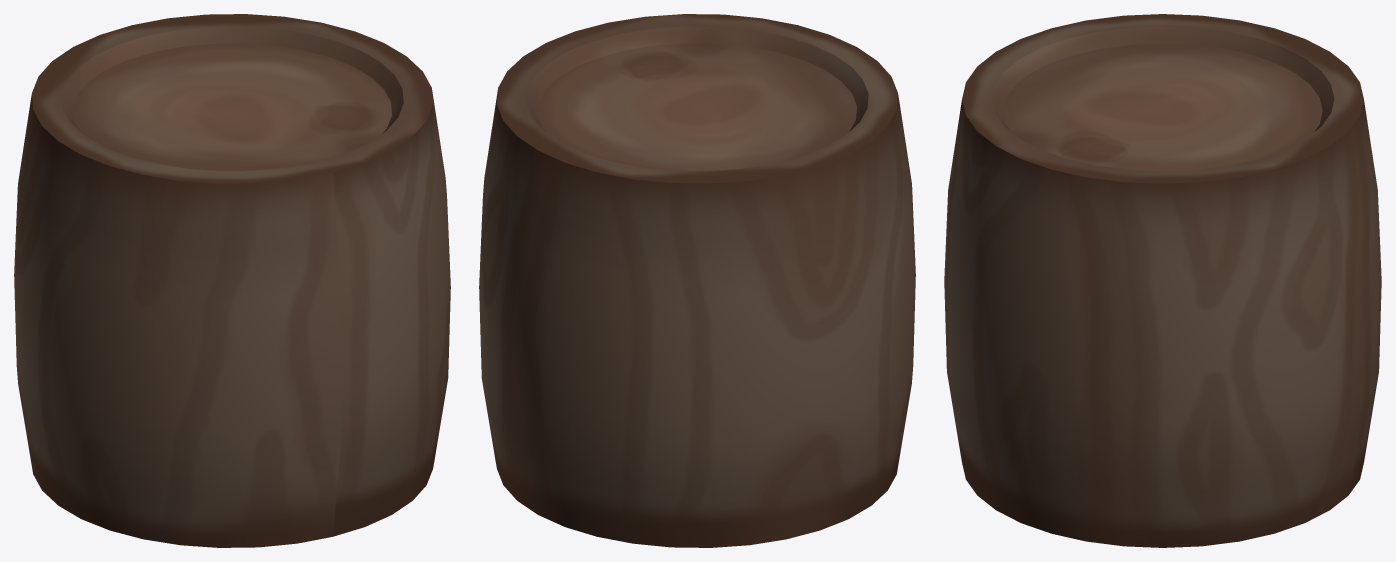
Rendered from Fass.fbx.
3 renders of one model, left to right at view 1: azimuth 30°, elevation 25°; view 2: azimuth 150°, elevation 25°; view 3: azimuth 270°, elevation 25°, orthographic.
Visible parts, largest first — view 1: Cylinder; view 2: Cylinder; view 3: Cylinder.
Part boxes in pixels (<box>): Cylinder: <box>14,14,450,547</box>; Cylinder: <box>479,14,915,547</box>; Cylinder: <box>944,14,1381,547</box>.
Bounding box in the file's own units: 218 × 200 × 218.
